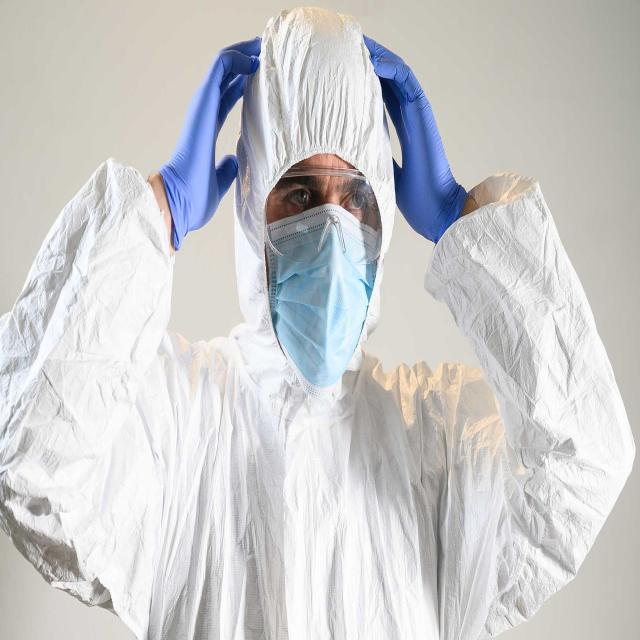Coverall: (1, 9, 634, 636)
Gloves: (160, 34, 263, 244), (364, 30, 466, 242)
Goggles: (264, 166, 386, 272)
Mask: (269, 207, 380, 386)
